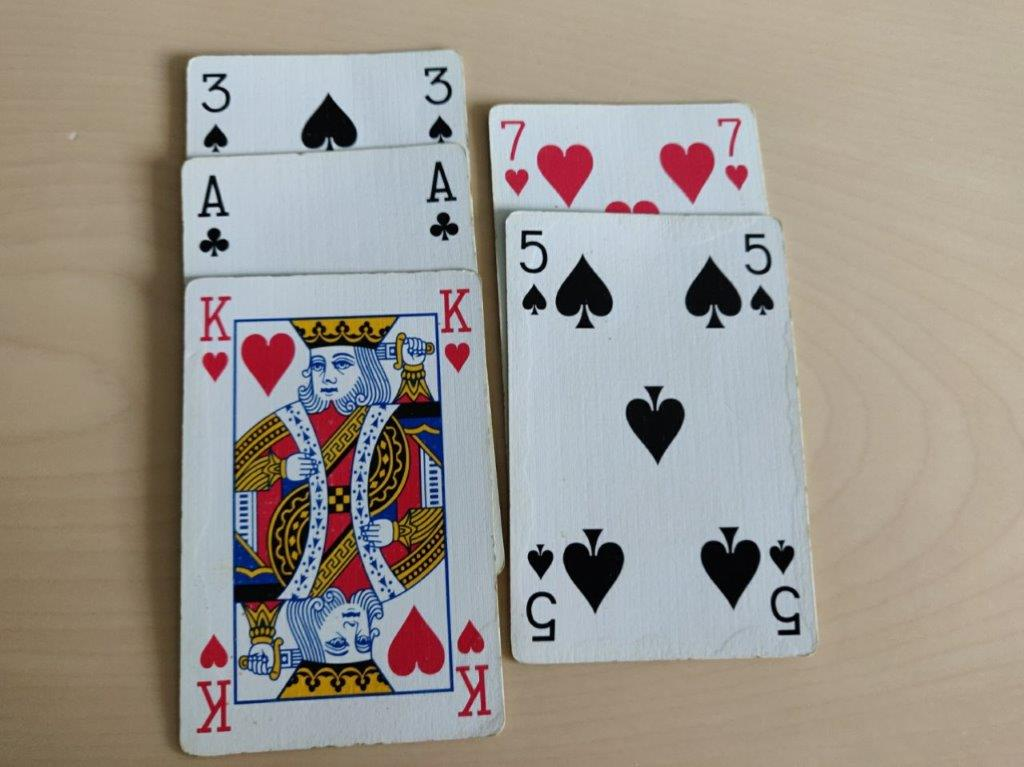3S: (188, 63, 238, 159), (416, 56, 462, 146)
5S: (510, 227, 557, 320), (736, 230, 781, 324)
7H: (714, 112, 754, 202), (496, 107, 533, 201)
AC: (190, 167, 239, 261), (415, 156, 464, 250)
KH: (193, 292, 240, 388), (429, 283, 476, 379)
